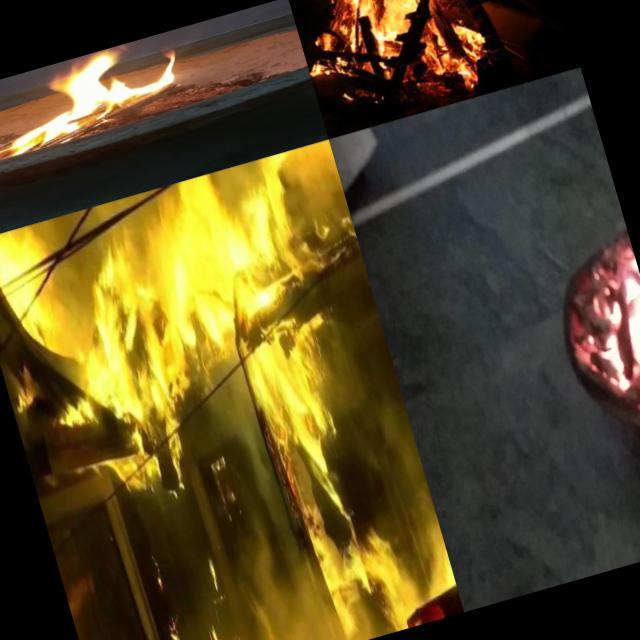fire: (9, 151, 427, 640), (0, 29, 194, 178), (312, 0, 499, 88), (558, 232, 640, 425)
